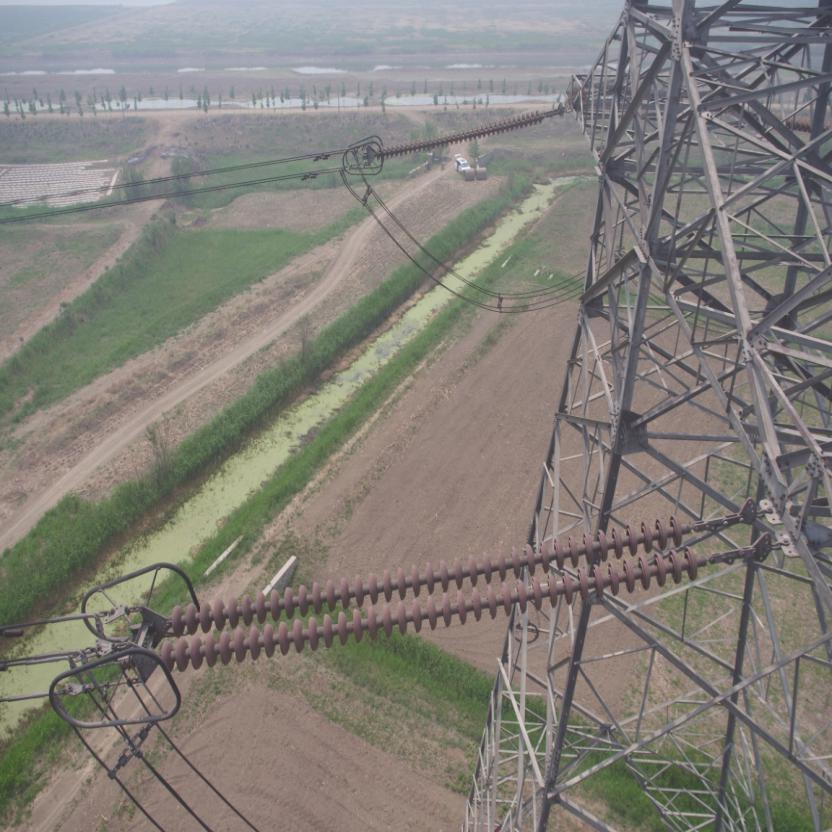insulator: (142, 509, 728, 676), (371, 105, 557, 160)
